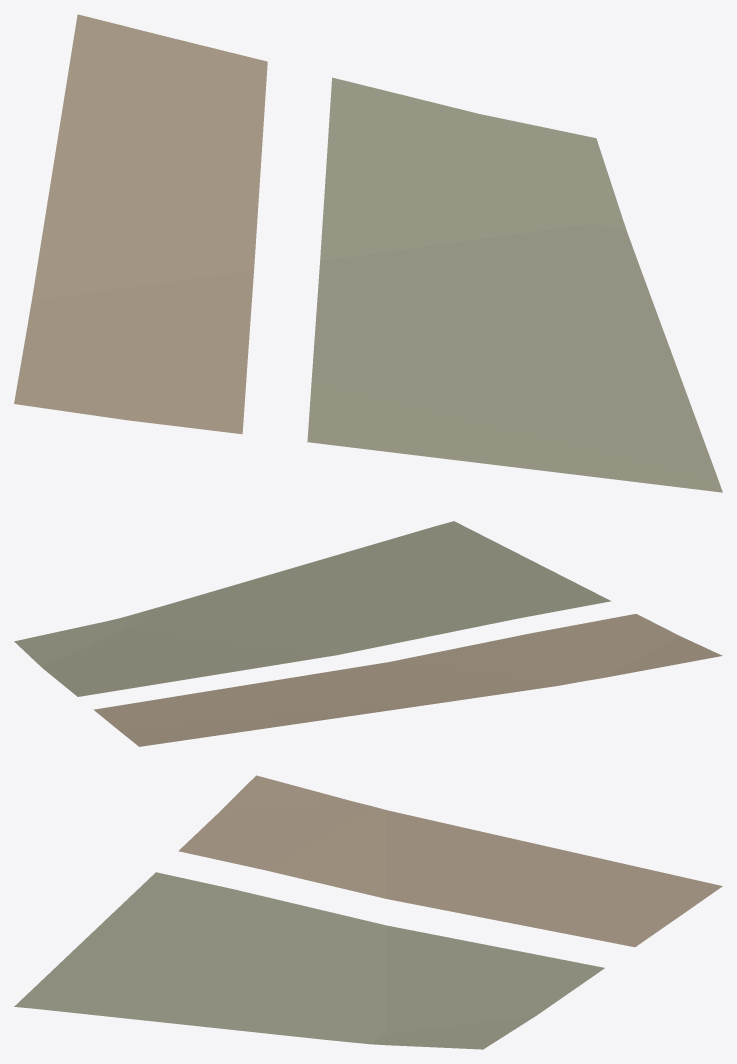
File: farm_-21_-21_soil.glb
3 views of the same model, one above another, from view 1: azimuth 30°, elevation 25°; view 2: azimuth 150°, elevation 25°; view 3: azimuth 270°, elevation 25° (orthographic). The views are drawn at different scales.
Parts seen in each view (by area): view 1: geometry_0; view 2: geometry_0; view 3: geometry_0.
Part boxes in pixels (left/top/right/bottom): geometry_0: left=14, top=14, right=722, bottom=492; geometry_0: left=14, top=521, right=722, bottom=746; geometry_0: left=14, top=775, right=722, bottom=1049.
Size of the model in its own units: 102 by 15.74 by 124.
